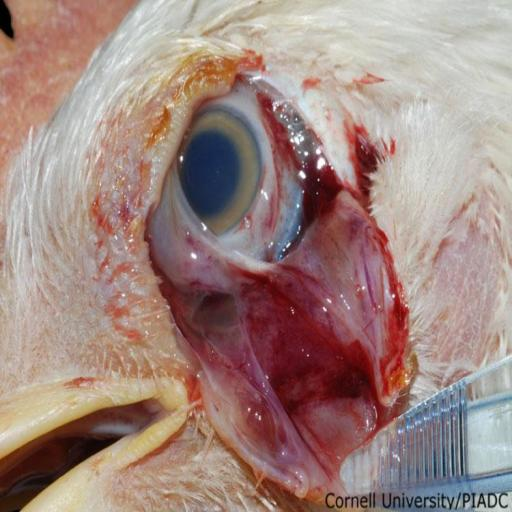disease: (92, 35, 446, 405)
